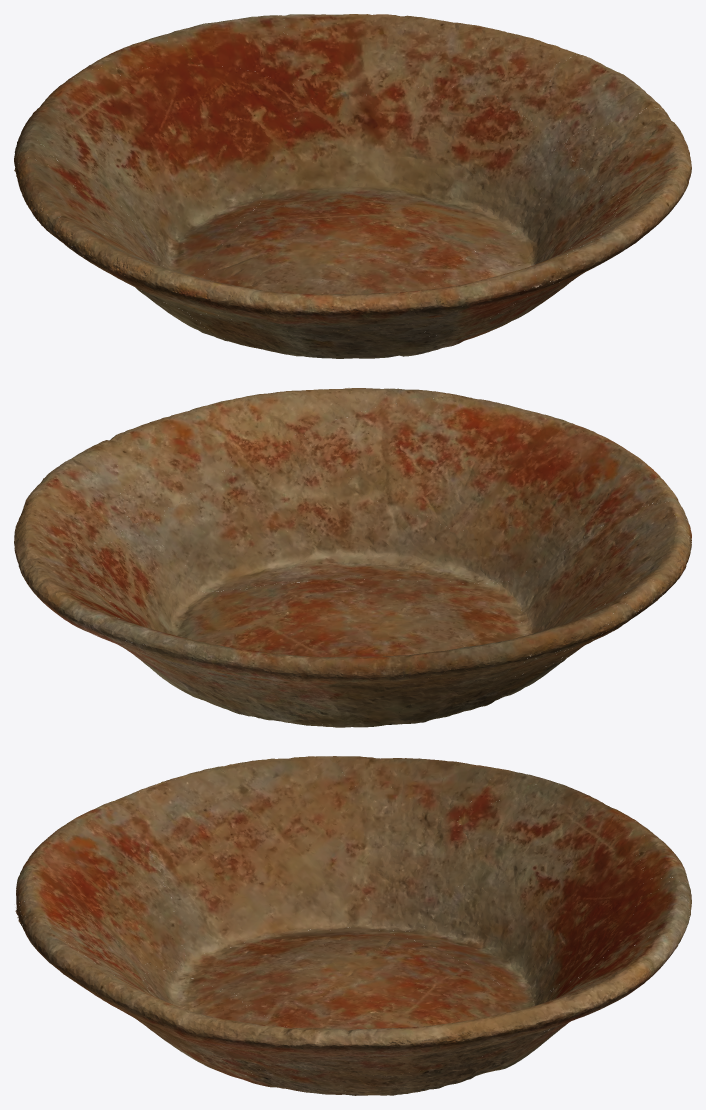
3 views of the same model, one above another, from view 1: azimuth 30°, elevation 25°; view 2: azimuth 150°, elevation 25°; view 3: azimuth 270°, elevation 25° (orthographic).
Visible parts, largest first — view 1: Mesh_0.005; view 2: Mesh_0.005; view 3: Mesh_0.005.
Part boxes in pixels (x1,y1,x2,y2): Mesh_0.005: [14, 14, 691, 358]; Mesh_0.005: [14, 388, 691, 727]; Mesh_0.005: [15, 756, 691, 1095].
Bounding box in the file's own units: 0.2217 × 0.0474 × 0.2237.
1 material, 1 textured.
